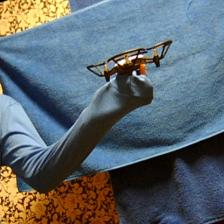drone: (86, 38, 176, 82)
